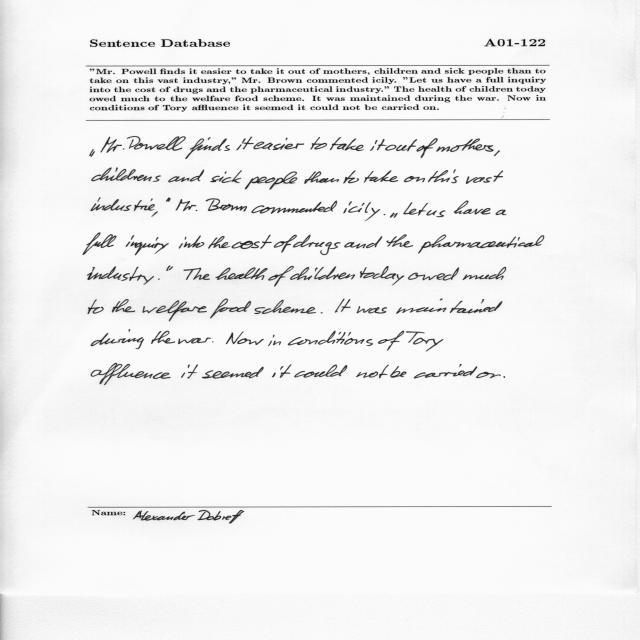word: (101, 137, 212, 160), (418, 235, 544, 254), (91, 363, 171, 385), (396, 299, 502, 314), (142, 301, 207, 322), (378, 331, 443, 352), (88, 266, 154, 285), (288, 331, 365, 346), (252, 201, 337, 214), (91, 329, 144, 349), (92, 168, 161, 182), (293, 235, 341, 255), (414, 364, 477, 379), (245, 172, 297, 190), (290, 267, 355, 281), (254, 300, 316, 314), (126, 236, 169, 256), (360, 266, 404, 285), (91, 198, 155, 211), (210, 299, 251, 319), (436, 138, 494, 152), (83, 233, 117, 255), (344, 202, 381, 222), (202, 367, 263, 379), (294, 365, 347, 378), (216, 267, 268, 280), (408, 268, 459, 281), (206, 198, 247, 212), (231, 235, 272, 249), (463, 267, 506, 280), (268, 266, 294, 287), (454, 201, 491, 215), (226, 331, 263, 345), (344, 236, 382, 249), (236, 137, 273, 150), (466, 171, 503, 184), (330, 137, 364, 151), (169, 170, 205, 183), (305, 171, 340, 184), (364, 170, 398, 183), (428, 170, 459, 184), (356, 365, 389, 378), (417, 138, 438, 158), (210, 170, 242, 183), (274, 235, 297, 253), (403, 202, 428, 216), (179, 236, 205, 249), (387, 235, 413, 248), (370, 139, 397, 151), (183, 268, 210, 280), (112, 299, 135, 313), (151, 331, 175, 344), (208, 137, 230, 151), (208, 236, 230, 249), (396, 139, 417, 152), (272, 364, 291, 378), (176, 199, 197, 211), (88, 300, 104, 315), (357, 306, 387, 314), (181, 365, 198, 379), (310, 137, 327, 150), (335, 299, 350, 313), (343, 171, 359, 184), (178, 338, 211, 344), (390, 366, 406, 378), (273, 138, 288, 150), (476, 372, 501, 378), (268, 335, 281, 346), (427, 210, 446, 217), (404, 176, 425, 182), (285, 144, 304, 150), (496, 210, 507, 215), (366, 339, 373, 346), (151, 211, 158, 217), (90, 149, 95, 157), (494, 150, 500, 156), (390, 213, 397, 218), (166, 266, 173, 271), (166, 198, 171, 202), (158, 278, 160, 280), (321, 312, 323, 314), (212, 341, 214, 343), (503, 376, 505, 378), (384, 214, 386, 215)
